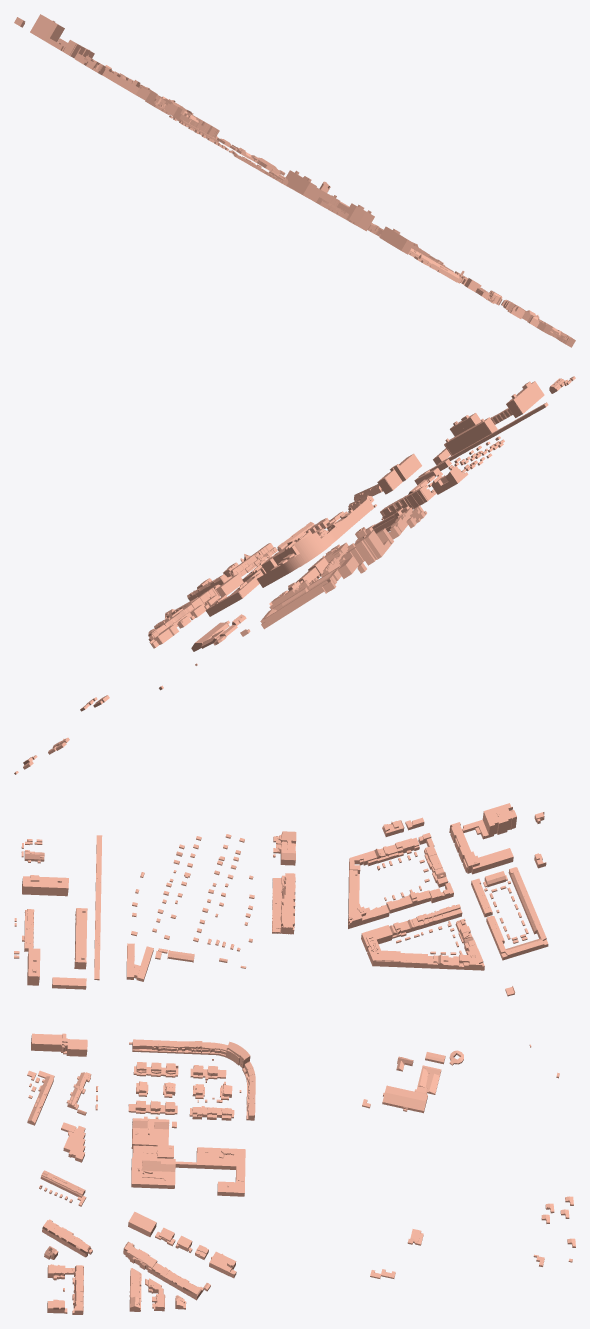
3 renders of one model, top to bottom at view 1: azimuth 30°, elevation 25°; view 2: azimuth 150°, elevation 25°; view 3: azimuth 270°, elevation 25°, orthographic. The views are drawn at different scales.
Size of the model in its own units: 533 by 396 by 630.
